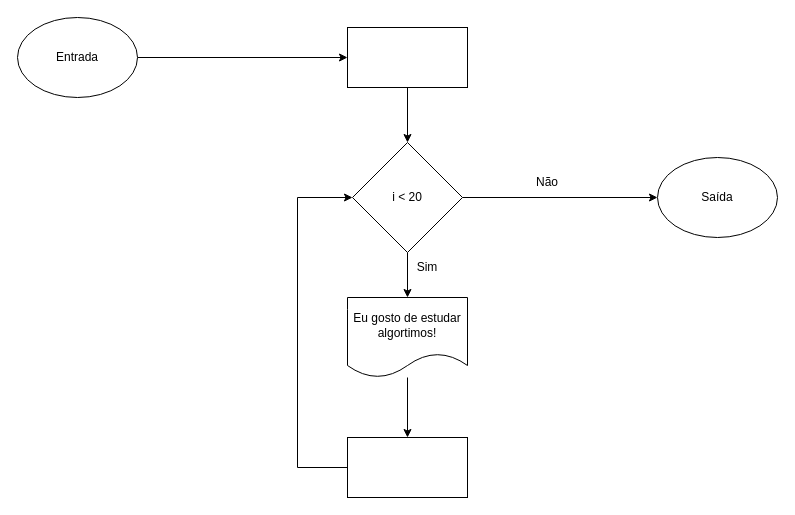
Image size: 795x515. Some labels were removed from this diagram. Here are the shapes that lost their labels. From the top down, the box of each, then its label:
(346, 26, 468, 88): i = 1
(346, 436, 468, 498): i++
